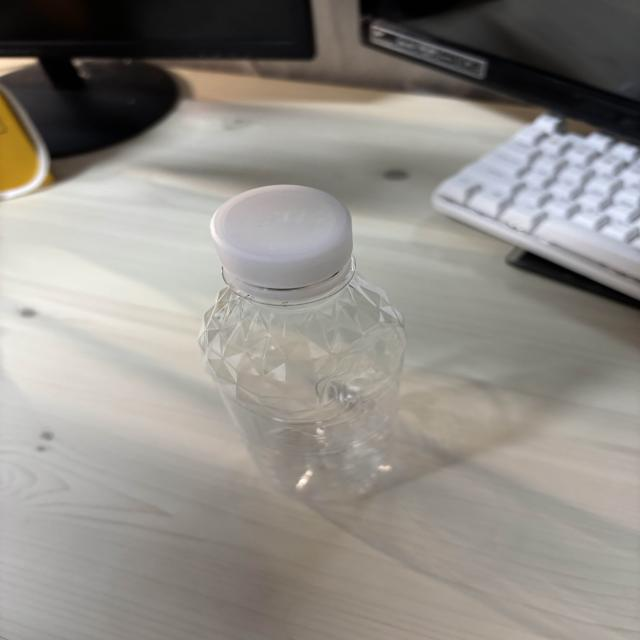Plastic: (175, 168, 445, 515)
